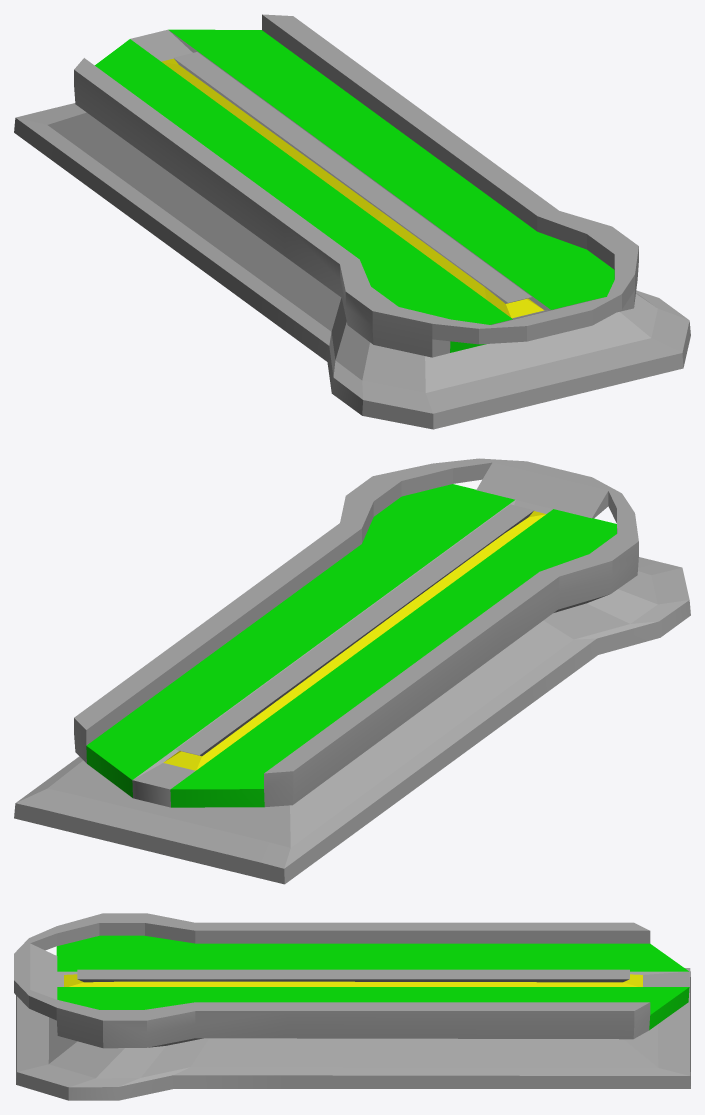
The model's file is takeoff_stage.fbx.
The picture shows the model from 3 angles, top to bottom: view 1: azimuth 30°, elevation 25°; view 2: azimuth 150°, elevation 25°; view 3: azimuth 270°, elevation 25°; orthographic projection. The views are drawn at different scales.
Visible parts, largest first — view 1: pCube1; view 2: pCube1; view 3: pCube1.
Part boxes in pixels (x1=…): pCube1: x1=14, y1=14, x2=690, y2=429; pCube1: x1=14, y1=458, x2=690, y2=884; pCube1: x1=14, y1=913, x2=690, y2=1100.
Bounding box in the file's own units: 80.64 × 19.18 × 174.
